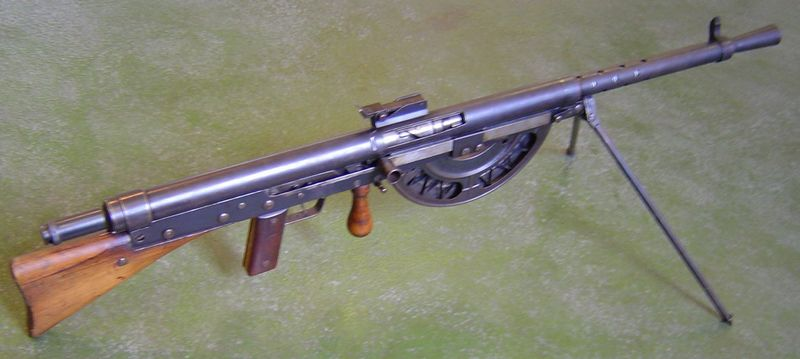rifle: (9, 20, 782, 342)
